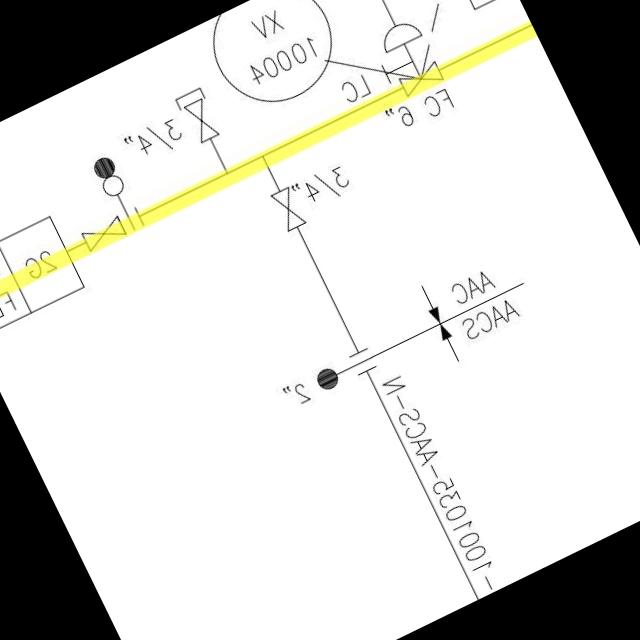EC: (167, 80, 236, 170)
FC: (368, 12, 448, 101)
GV: (264, 180, 310, 236), (75, 210, 130, 254), (179, 93, 222, 148)
